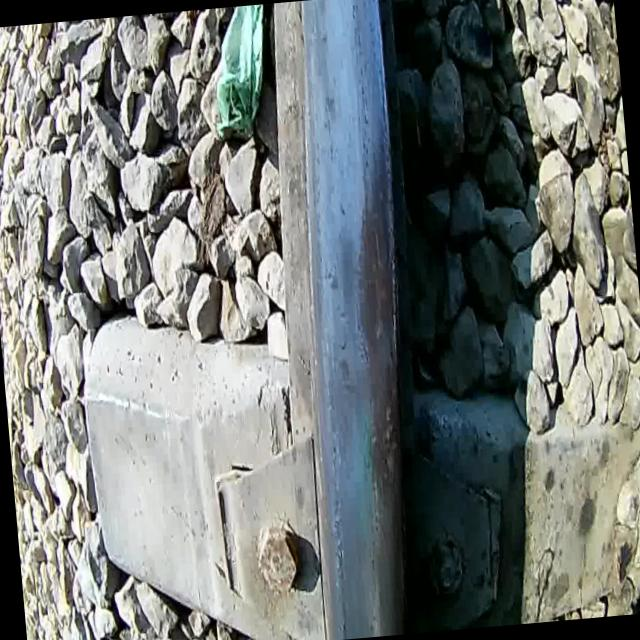Squats: (344, 192, 411, 364), (351, 360, 414, 530)
